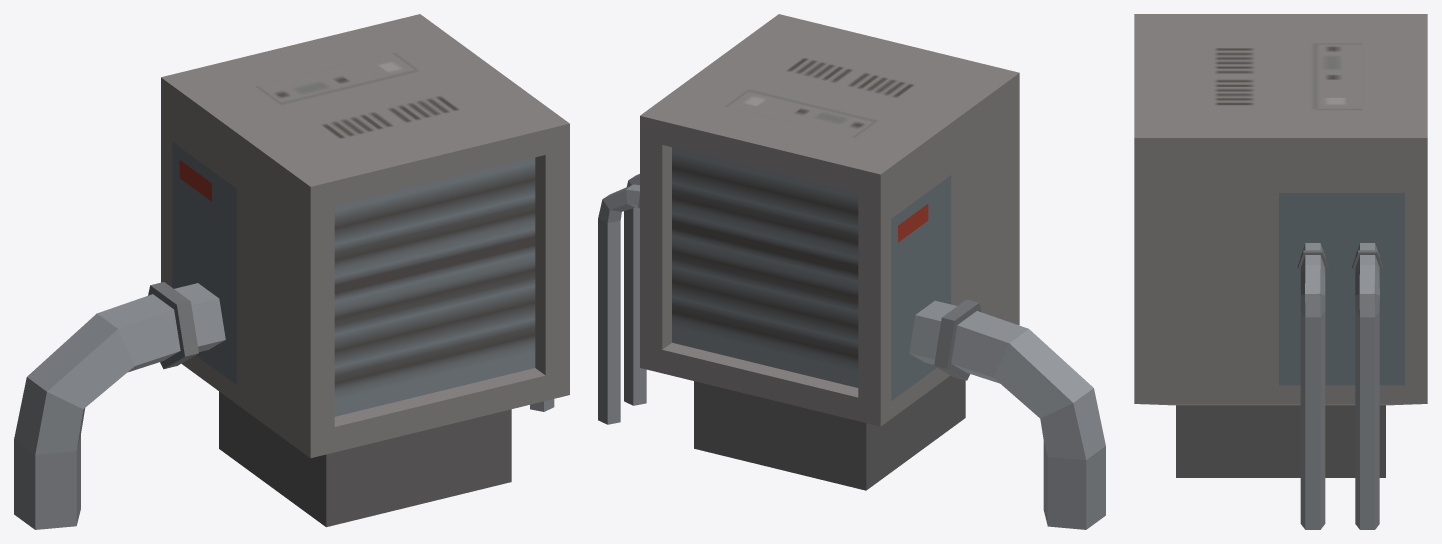
File: SM_Prop_Aircon_Roof_02.fbx
The picture shows the model from 3 angles, left to right: view 1: azimuth 30°, elevation 25°; view 2: azimuth 150°, elevation 25°; view 3: azimuth 270°, elevation 25°; orthographic projection. The views are drawn at different scales.
Parts seen in each view (by area): view 1: SM_Prop_Aircon_Roof_02; view 2: SM_Prop_Aircon_Roof_02; view 3: SM_Prop_Aircon_Roof_02.
Part boxes in pixels (box(x1,y1,x2,y2)): SM_Prop_Aircon_Roof_02: box(14, 14, 569, 529); SM_Prop_Aircon_Roof_02: box(598, 14, 1105, 529); SM_Prop_Aircon_Roof_02: box(1134, 14, 1427, 529).
Bounding box in the file's own units: 159 × 107 × 79.82.
Materials: 1 (1 with a texture image).
